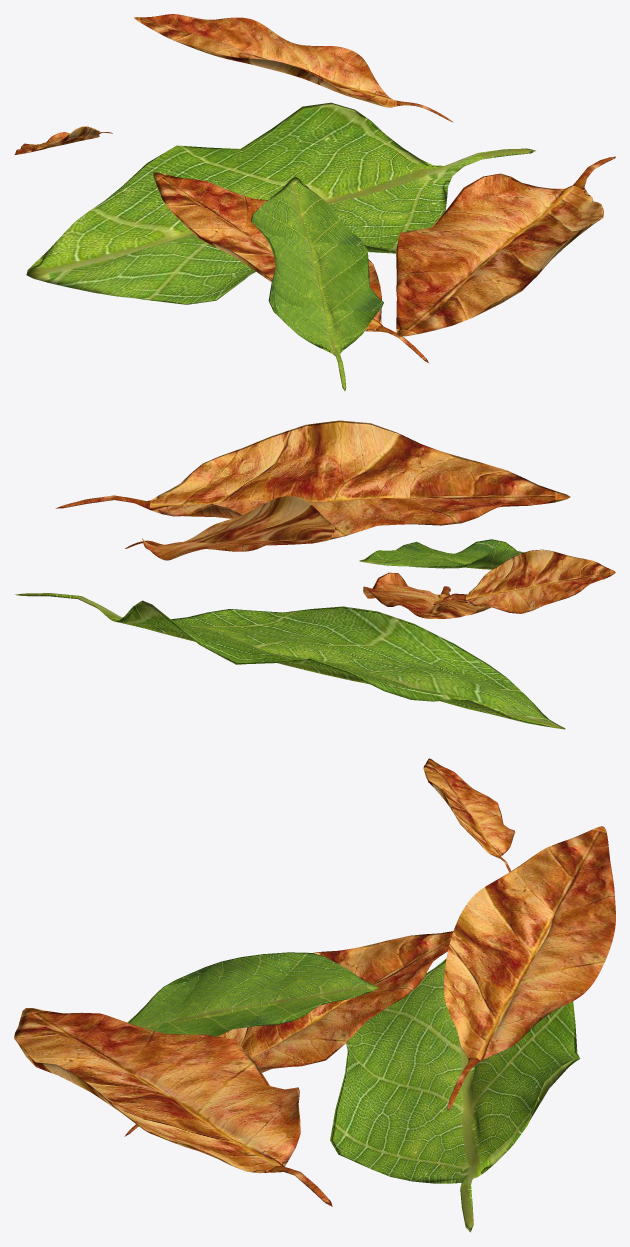
The model's file is daun.fbx.
3 renders of one model, top to bottom at view 1: azimuth 30°, elevation 25°; view 2: azimuth 150°, elevation 25°; view 3: azimuth 270°, elevation 25°, orthographic. The views are drawn at different scales.
Parts seen in each view (by area): view 1: pCube1, pCube2, pCube4, pCube3, pCube5, pCube6; view 2: pCube2, pCube1, pCube6, pCube3, pCube4, pCube5; view 3: pCube1, pCube3, pCube2, pCube4, pCube5, pCube6.
Boxes of the visible parts, x1,y1,x2,y2 form: pCube1: [26, 102, 536, 304]; pCube2: [396, 156, 615, 336]; pCube4: [251, 176, 383, 391]; pCube3: [134, 14, 452, 122]; pCube5: [153, 172, 428, 362]; pCube6: [14, 126, 112, 154]; pCube2: [55, 420, 570, 543]; pCube1: [14, 593, 565, 729]; pCube6: [433, 549, 615, 613]; pCube3: [125, 496, 334, 560]; pCube4: [359, 539, 523, 569]; pCube5: [363, 572, 491, 618]; pCube1: [330, 958, 579, 1232]; pCube3: [443, 826, 615, 1110]; pCube2: [14, 1008, 332, 1206]; pCube4: [127, 952, 378, 1036]; pCube5: [124, 931, 453, 1136]; pCube6: [423, 758, 515, 872].
Size of the model in its own units: 9.92 by 3.71 by 7.84.
2 materials, 2 textured.
